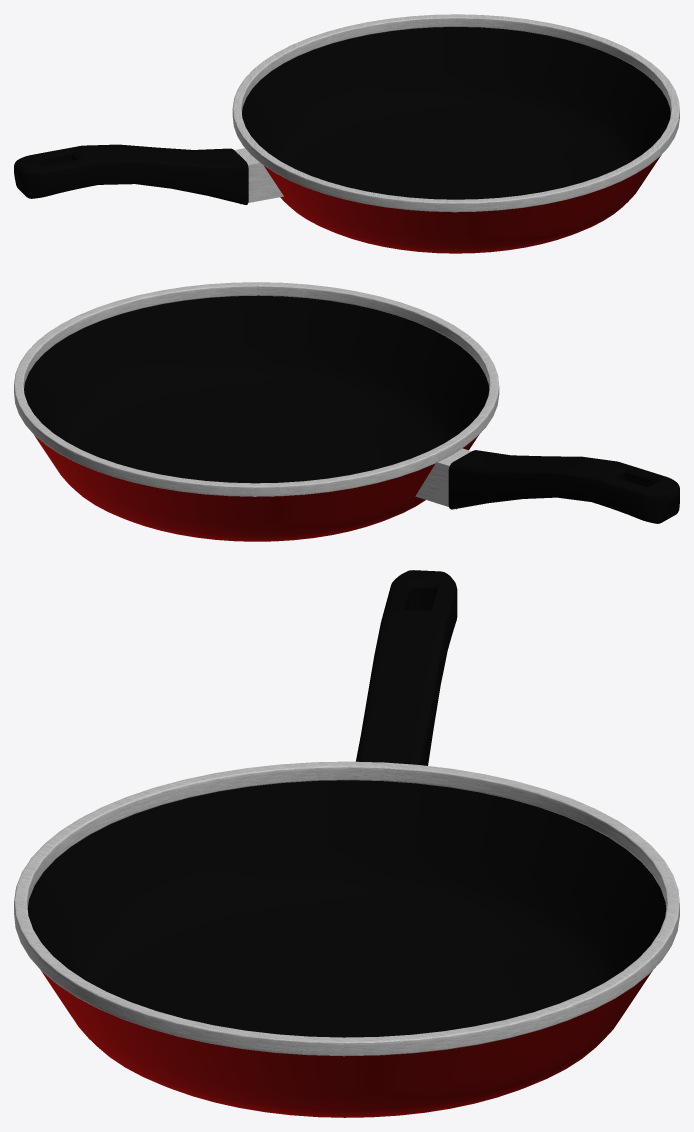
The model's file is pan.dae.
3 views of the same model, one above another, from view 1: azimuth 30°, elevation 25°; view 2: azimuth 150°, elevation 25°; view 3: azimuth 270°, elevation 25° (orthographic). The views are drawn at different scales.
Parts seen in each view (by area): view 1: group_2, group_1, group_0, group_3, group_4; view 2: group_2, group_0, group_1, group_3, group_4; view 3: group_2, group_1, group_0, group_3.
Part boxes in pixels (bbox=[...]): group_2: bbox=[242, 27, 670, 199]; group_1: bbox=[264, 156, 660, 253]; group_0: bbox=[232, 14, 679, 212]; group_3: bbox=[14, 144, 248, 204]; group_4: bbox=[234, 148, 283, 204]; group_2: bbox=[24, 295, 489, 483]; group_0: bbox=[14, 282, 499, 496]; group_1: bbox=[34, 434, 479, 541]; group_3: bbox=[448, 450, 679, 523]; group_4: bbox=[415, 448, 471, 508]; group_2: bbox=[27, 780, 666, 1037]; group_1: bbox=[41, 970, 652, 1117]; group_0: bbox=[14, 761, 679, 1056]; group_3: bbox=[356, 570, 457, 765].
Bounding box in the file's own units: 20.83 × 13.3 × 3.26.
Materials: 3 (1 with a texture image).
